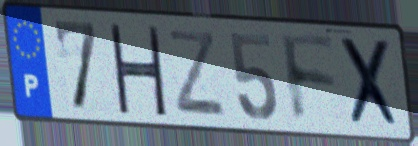5: (227, 30, 279, 124)
7: (51, 18, 101, 115)
F: (277, 30, 340, 127)
H: (106, 21, 169, 119)
X: (335, 35, 406, 132)
Z: (165, 26, 229, 120)
